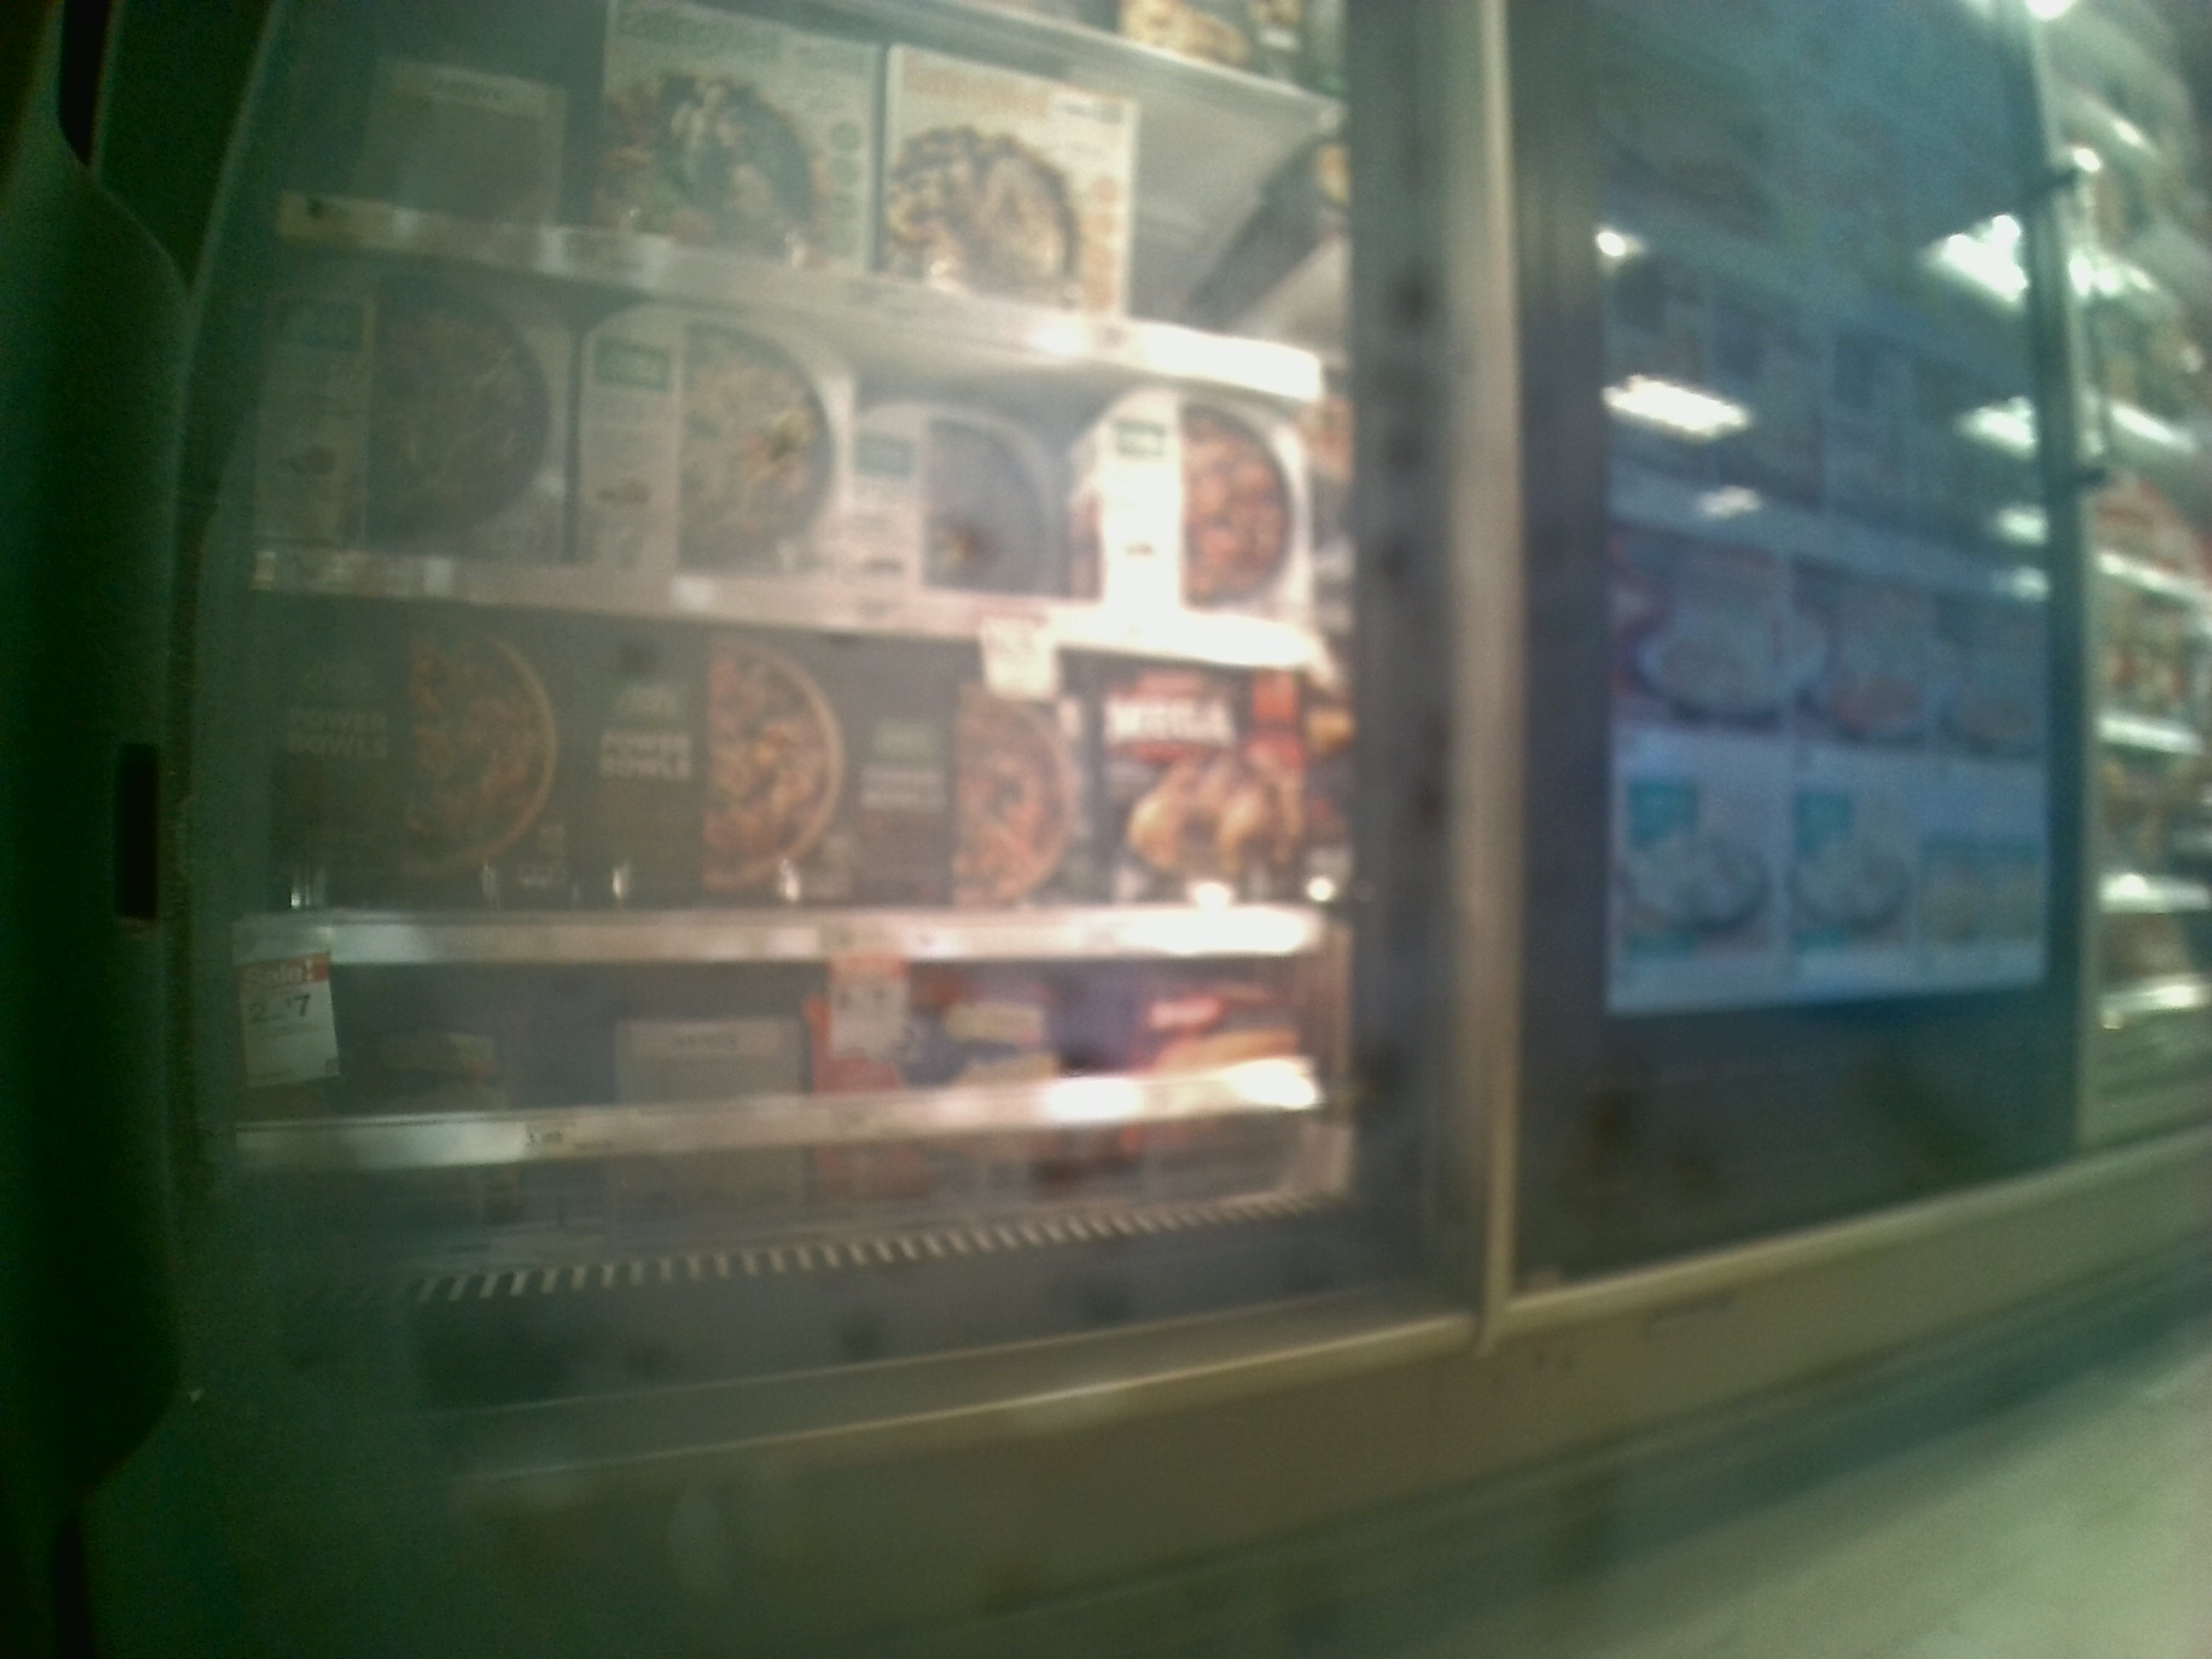shelf: (239, 232, 1338, 666), (244, 598, 1355, 955)
